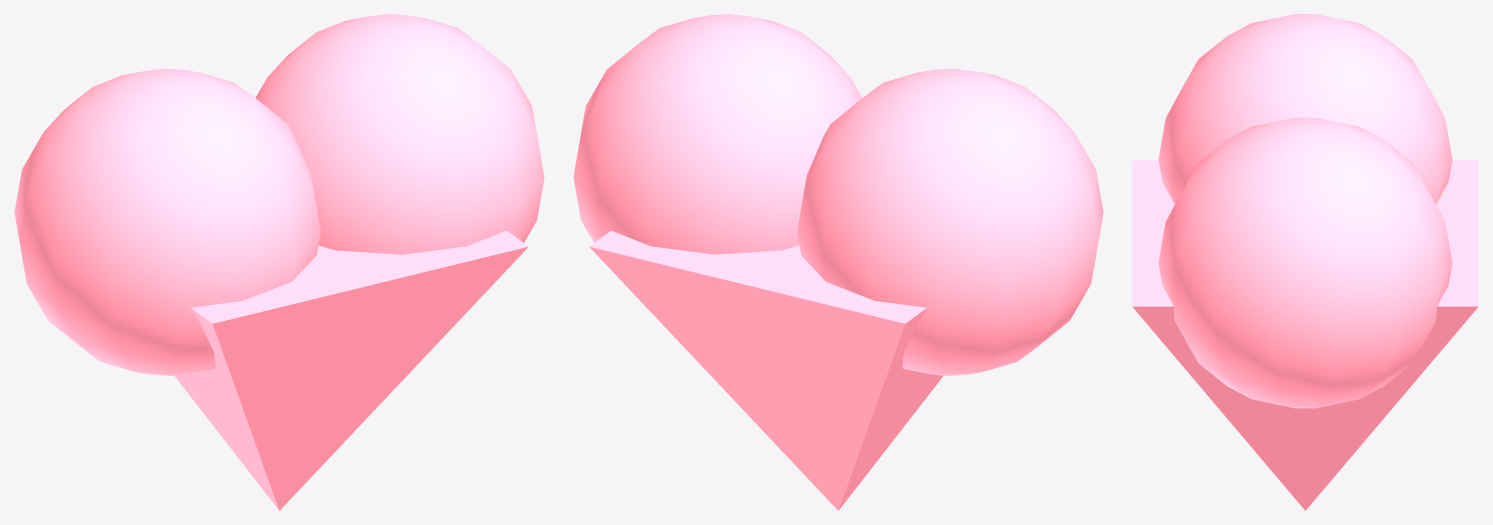
The model's file is heart_item.glb.
3 renders of one model, left to right at view 1: azimuth 30°, elevation 25°; view 2: azimuth 150°, elevation 25°; view 3: azimuth 270°, elevation 25°, orthographic. The views are drawn at different scales.
Visible parts, largest first — view 1: heart_item; view 2: heart_item; view 3: heart_item.
Part boxes in pixels (x1,y1,x2,y2): heart_item: (14,14,544,510); heart_item: (573,14,1103,510); heart_item: (1132,14,1478,510).
Size of the model in its own units: 0.868 by 0.78 by 0.5657.
